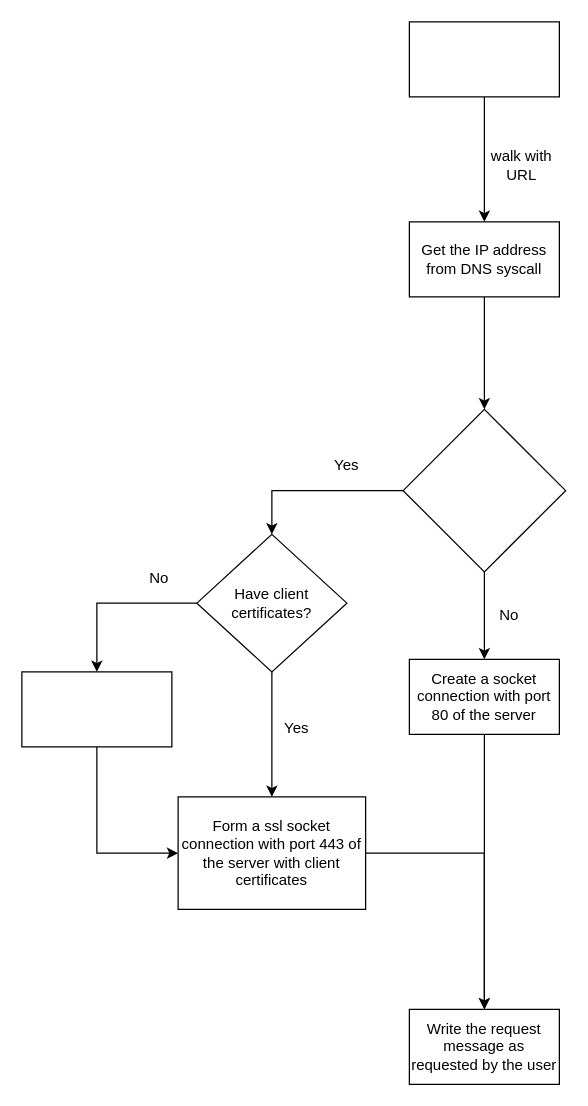
This 588x1106 diagram has some shape labels left out. The box of each missing label's shape, as (x1, y1, x2, y2) in pixels:
CLI: (408, 21, 559, 97)
Contains https in URL?: (402, 408, 566, 572)
Create client certificates: (21, 671, 172, 747)
